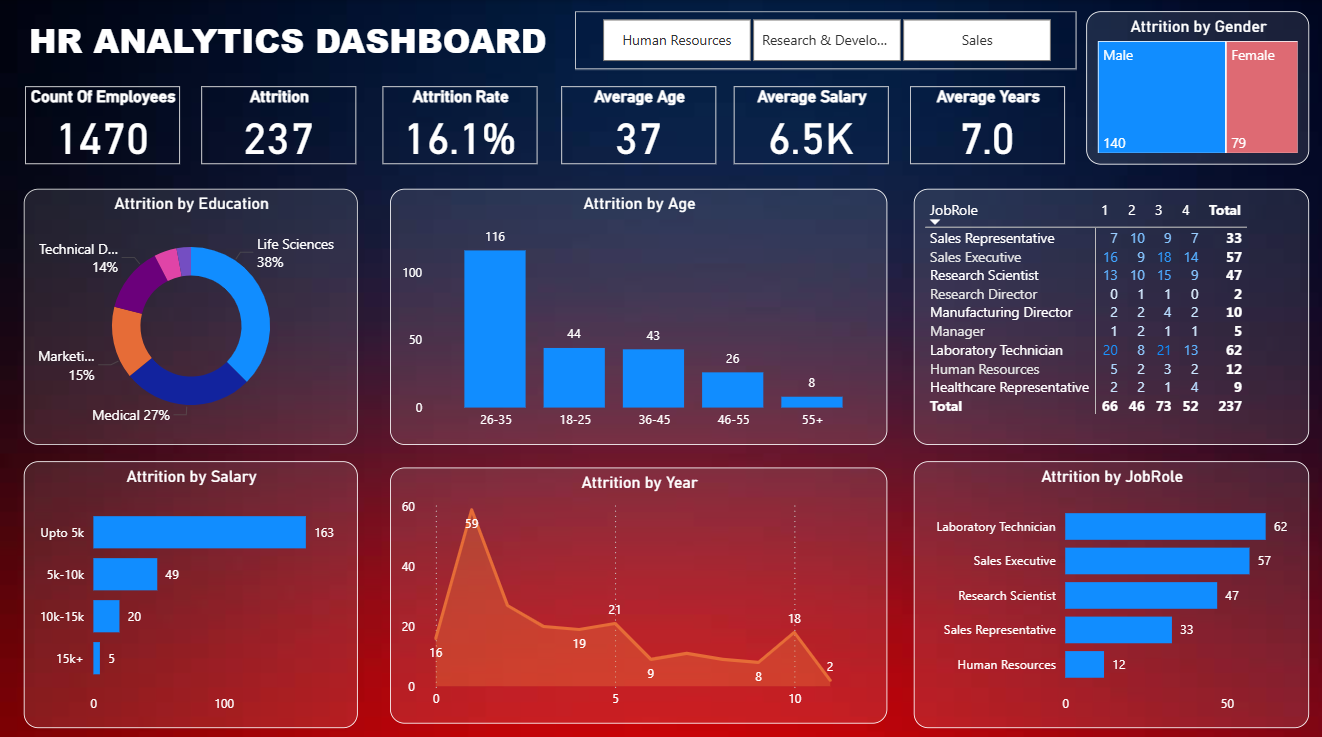

The dashboard page shown, as its layout file describes it:
{"tool":"powerbi","page":{"name":"Page 1","canvas":[1280,720],"ordinal":0},"visuals":[{"type":"card","title":"Count Of Employees","fields":{"Values":["CountNonNull(HR_Analytics.EmpID)"]},"box":[24.4,83.4,149.6,75.5],"z":0},{"type":"card","title":"Attrition","fields":{"Values":["Sum(HR_Analytics.Attritioncount)"]},"box":[194.6,83.4,149.6,75.5],"z":1000},{"type":"card","title":"Attrition Rate","fields":{"Values":["HR_Analytics.AttrtionRate"]},"box":[368.9,83.4,149.6,75.5],"z":2000},{"type":"card","title":"Average Age","fields":{"Values":["Avg(HR_Analytics.Age)"]},"box":[541.8,83.4,149.6,75.5],"z":3000},{"type":"card","title":"Average Salary","fields":{"Values":["Avg(HR_Analytics.MonthlyIncome)"]},"box":[707.8,83.4,149.6,75.5],"z":4000},{"type":"card","title":"Average Years","fields":{"Values":["Avg(HR_Analytics.YearsAtCompany)"]},"box":[877.9,83.4,149.6,75.5],"z":5000},{"type":"donutChart","title":"Attrition by Education","fields":{"Category":["HR_Analytics.EducationField"],"Y":["Sum(HR_Analytics.Attritioncount)"]},"box":[23.3,182.5,322.5,247],"z":6000},{"type":"columnChart","title":"Attrition by Age","fields":{"Category":["HR_Analytics.AgeGroup"],"Y":["Sum(HR_Analytics.Attritioncount)"]},"box":[376,182.5,480.3,247],"z":7000},{"type":"pivotTable","fields":{"Rows":["HR_Analytics.JobRole"],"Columns":["HR_Analytics.JobSatisfaction"],"Values":["Sum(HR_Analytics.Attritioncount)"]},"box":[882.3,182.5,381.5,247],"z":8000},{"type":"barChart","title":"Attrition by Salary","fields":{"Category":["HR_Analytics.SalarySlab"],"Y":["Sum(HR_Analytics.Attritioncount)"]},"box":[23.3,445.1,322.5,258],"z":9000},{"type":"barChart","title":"Attrition by JobRole","fields":{"Y":["Sum(HR_Analytics.Attritioncount)"],"Category":["HR_Analytics.JobRole"]},"box":[882.3,445.1,381.5,258],"z":10000},{"type":"areaChart","title":"Attrition by Year","fields":{"Category":["HR_Analytics.YearsAtCompany"],"Y":["Sum(HR_Analytics.Attritioncount)"]},"box":[376,450.6,480.3,247],"z":11000},{"type":"treemap","title":"Attrition by Gender","fields":{"Group":["HR_Analytics.Gender"],"Values":["Sum(HR_Analytics.Attritioncount)"]},"box":[1048.4,11,215.4,148.2],"z":12000},{"type":"slicer","fields":{"Values":["HR_Analytics.Department"]},"box":[554.4,11,484.4,56.3],"z":13000},{"type":"textbox","box":[23.3,11,518.7,56.3],"z":14000}]}

Visuals, with their boxes in screenshot pixels (x1, y1, x2, y2), scaled from the page's 1280x720 canvas onto the 1322x737 screenshot:
"Count Of Employees" card: {"left": 25, "top": 85, "right": 180, "bottom": 163}
"Attrition" card: {"left": 201, "top": 85, "right": 355, "bottom": 163}
"Attrition Rate" card: {"left": 381, "top": 85, "right": 536, "bottom": 163}
"Average Age" card: {"left": 560, "top": 85, "right": 714, "bottom": 163}
"Average Salary" card: {"left": 731, "top": 85, "right": 886, "bottom": 163}
"Average Years" card: {"left": 907, "top": 85, "right": 1061, "bottom": 163}
"Attrition by Education" donutChart: {"left": 24, "top": 187, "right": 357, "bottom": 440}
"Attrition by Age" columnChart: {"left": 388, "top": 187, "right": 884, "bottom": 440}
pivotTable - HR_Analytics.JobRole x HR_Analytics.JobSatisfaction: {"left": 911, "top": 187, "right": 1305, "bottom": 440}
"Attrition by Salary" barChart: {"left": 24, "top": 456, "right": 357, "bottom": 720}
"Attrition by JobRole" barChart: {"left": 911, "top": 456, "right": 1305, "bottom": 720}
"Attrition by Year" areaChart: {"left": 388, "top": 461, "right": 884, "bottom": 714}
"Attrition by Gender" treemap: {"left": 1083, "top": 11, "right": 1305, "bottom": 163}
slicer - HR_Analytics.Department: {"left": 573, "top": 11, "right": 1073, "bottom": 69}
textbox: {"left": 24, "top": 11, "right": 560, "bottom": 69}
